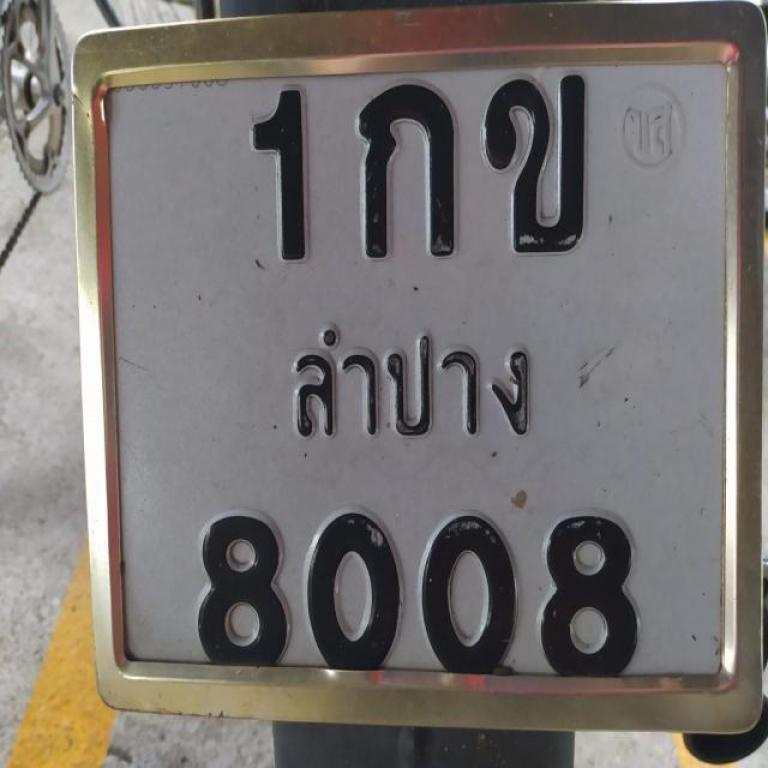license plate: (71, 24, 768, 739)
